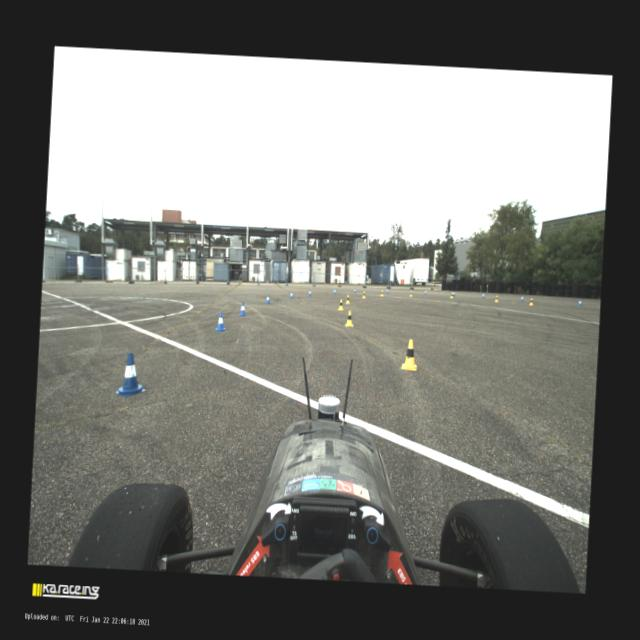blue_cone: (115, 352, 148, 398), (215, 312, 228, 332), (238, 302, 247, 317), (265, 294, 271, 304), (578, 298, 583, 306), (290, 291, 294, 299), (308, 289, 312, 297), (452, 291, 456, 296), (521, 296, 524, 302), (334, 288, 336, 295), (354, 288, 356, 294), (386, 288, 388, 294), (424, 290, 427, 294), (482, 292, 484, 298)
yellow_cone: (400, 338, 420, 371), (345, 310, 355, 326), (338, 300, 344, 310), (346, 294, 350, 304), (529, 298, 534, 306), (362, 291, 366, 299), (495, 295, 499, 302), (381, 290, 384, 296), (451, 292, 454, 298), (410, 290, 412, 296)
